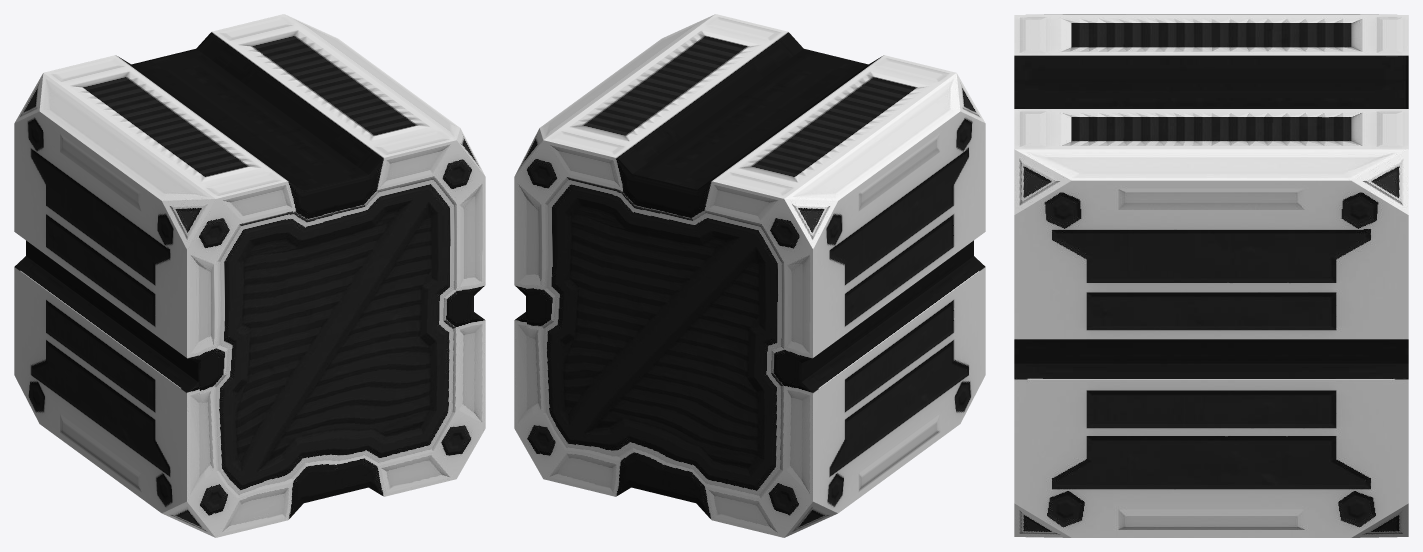
Rendered from ScifiCrate_2.fbx.
3 views of the same model, side by side, from view 1: azimuth 30°, elevation 25°; view 2: azimuth 150°, elevation 25°; view 3: azimuth 270°, elevation 25° (orthographic). The views are drawn at different scales.
Parts seen in each view (by area): view 1: Cube; view 2: Cube; view 3: Cube.
Part boxes in pixels (box(x1,y1,x2,y2)): Cube: box(14, 14, 485, 537); Cube: box(514, 14, 985, 537); Cube: box(1014, 14, 1408, 537).
Bounding box in the file's own units: 204 × 204 × 222.
